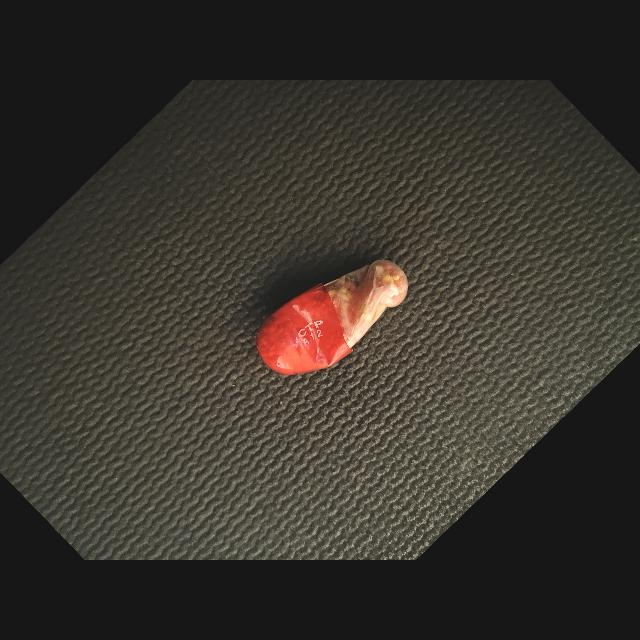Defective Capsule: (257, 260, 408, 375)
